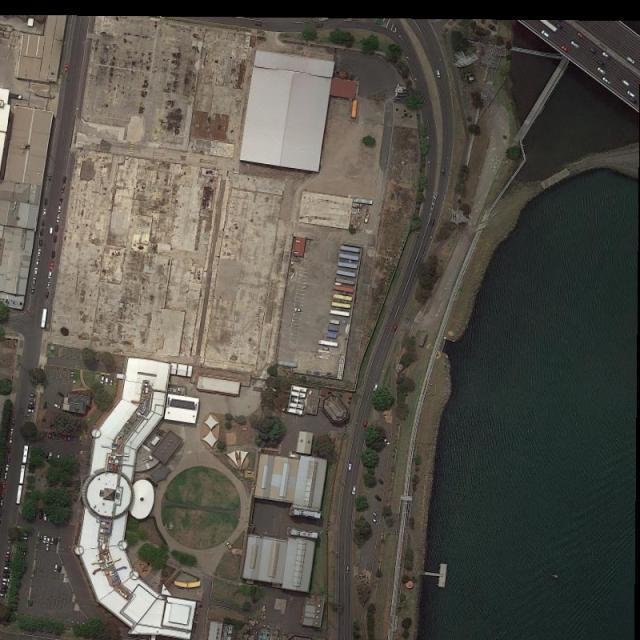vehicle: (22, 445, 30, 463), (41, 309, 48, 328), (19, 465, 26, 484), (17, 485, 23, 505), (596, 66, 607, 76), (601, 76, 613, 85), (570, 41, 580, 50), (540, 30, 550, 38), (560, 46, 570, 54), (626, 90, 636, 98), (374, 494, 383, 502), (577, 32, 586, 40), (589, 47, 598, 55), (602, 51, 611, 59), (372, 518, 380, 526), (627, 58, 635, 66), (378, 477, 385, 486), (53, 403, 62, 410), (621, 79, 630, 86), (351, 486, 357, 496), (384, 438, 391, 446), (372, 512, 380, 519), (57, 214, 62, 224), (109, 378, 115, 386), (392, 325, 398, 333), (38, 238, 43, 247), (348, 463, 353, 472), (437, 69, 442, 78), (59, 198, 64, 206), (65, 64, 69, 74), (42, 218, 46, 228), (70, 371, 74, 381), (100, 374, 104, 384), (37, 250, 42, 258), (35, 258, 40, 266), (46, 282, 51, 290), (48, 271, 53, 279), (346, 564, 350, 574), (58, 566, 63, 574), (28, 402, 37, 406), (44, 209, 48, 218), (105, 377, 109, 386), (52, 250, 56, 259), (441, 168, 445, 177), (21, 537, 30, 541), (50, 536, 54, 545), (54, 536, 58, 545), (54, 563, 58, 572), (45, 292, 50, 299), (55, 225, 59, 233), (58, 206, 62, 214), (374, 382, 378, 390), (31, 286, 35, 294), (50, 262, 54, 270), (29, 398, 37, 402), (27, 406, 35, 410), (43, 514, 47, 522), (2, 582, 10, 586), (2, 578, 10, 582), (2, 574, 10, 578), (2, 482, 6, 490), (4, 473, 8, 481), (6, 464, 10, 472), (10, 428, 14, 436), (46, 537, 50, 545), (49, 227, 53, 235), (35, 268, 38, 278), (41, 229, 45, 236), (54, 236, 58, 243), (1, 590, 8, 594), (46, 545, 50, 552), (4, 566, 11, 570), (49, 174, 52, 183), (29, 394, 38, 397), (49, 451, 52, 460), (43, 535, 46, 544), (63, 176, 66, 184), (62, 186, 65, 194), (45, 198, 48, 206), (44, 402, 47, 410), (33, 278, 36, 286), (1, 594, 7, 598), (1, 499, 4, 507), (10, 438, 14, 444), (12, 418, 15, 426), (58, 454, 61, 462), (28, 410, 35, 413), (2, 491, 5, 498)
